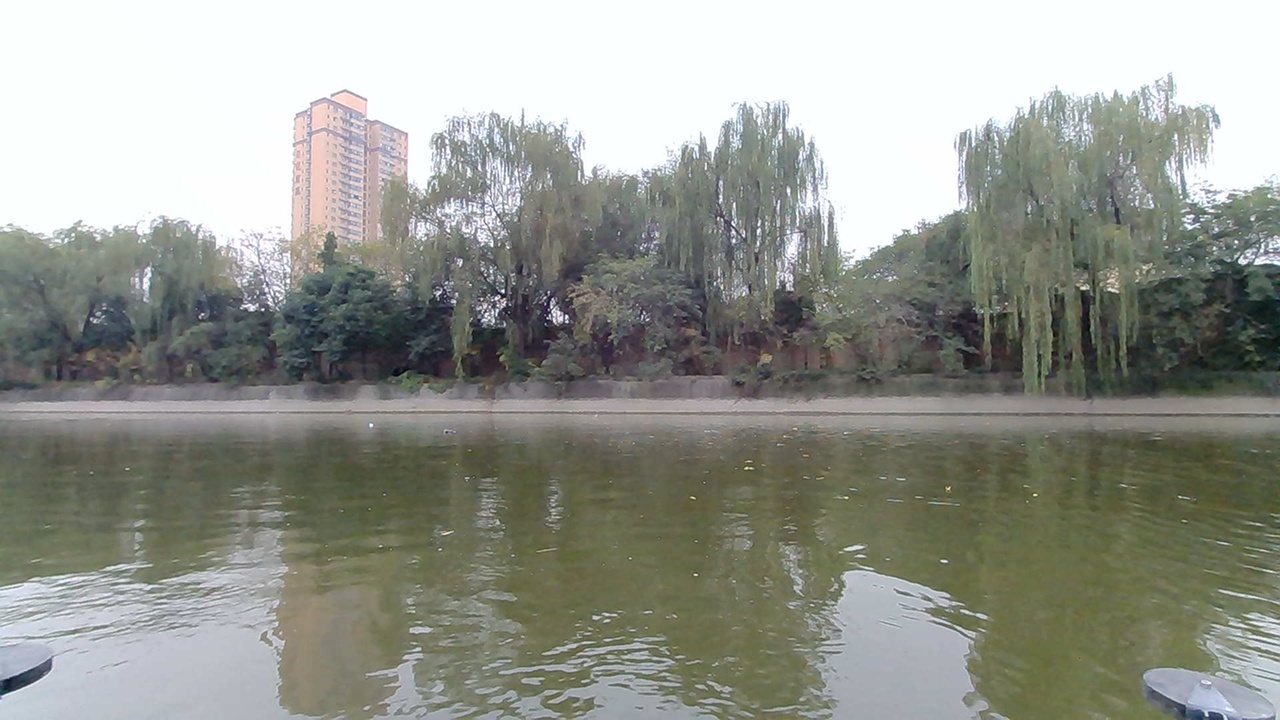bottle: (434, 415, 469, 442)
